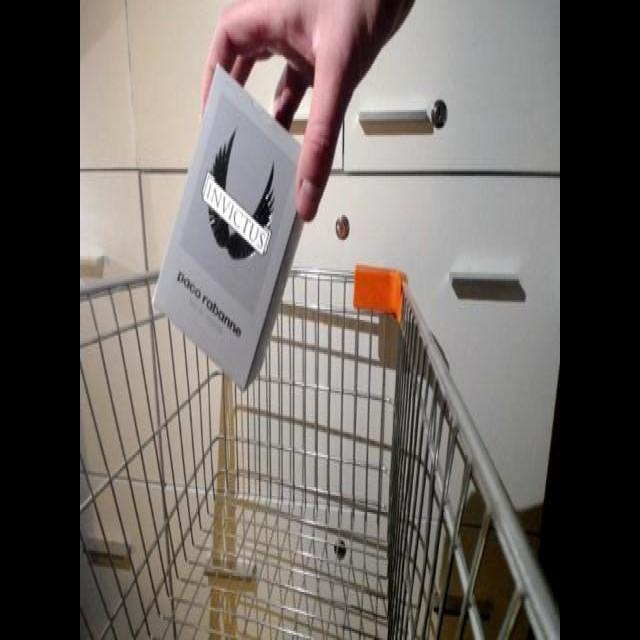Paco Rabanne: (150, 63, 327, 396)
